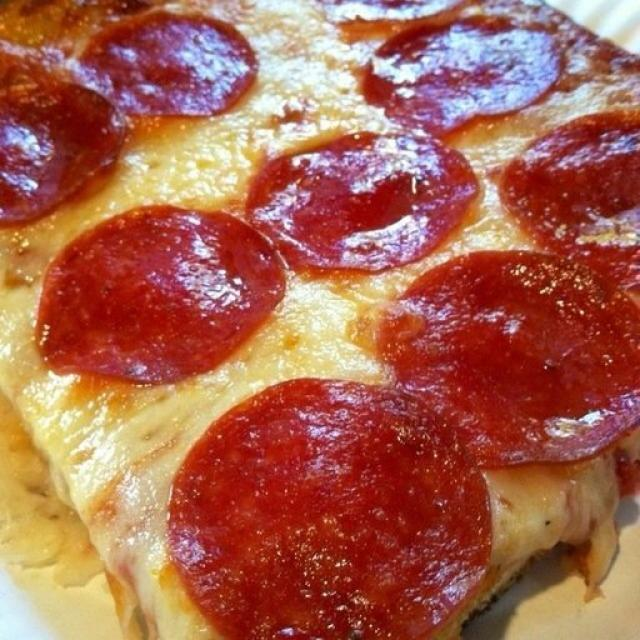Pepperoni: (171, 381, 488, 640), (381, 253, 640, 457), (40, 207, 282, 377), (235, 135, 472, 260), (363, 18, 567, 113), (0, 70, 116, 217), (503, 128, 640, 246), (87, 22, 260, 114)
Pizza: (0, 0, 640, 640)
